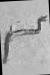I10: (3, 0, 48, 74)
